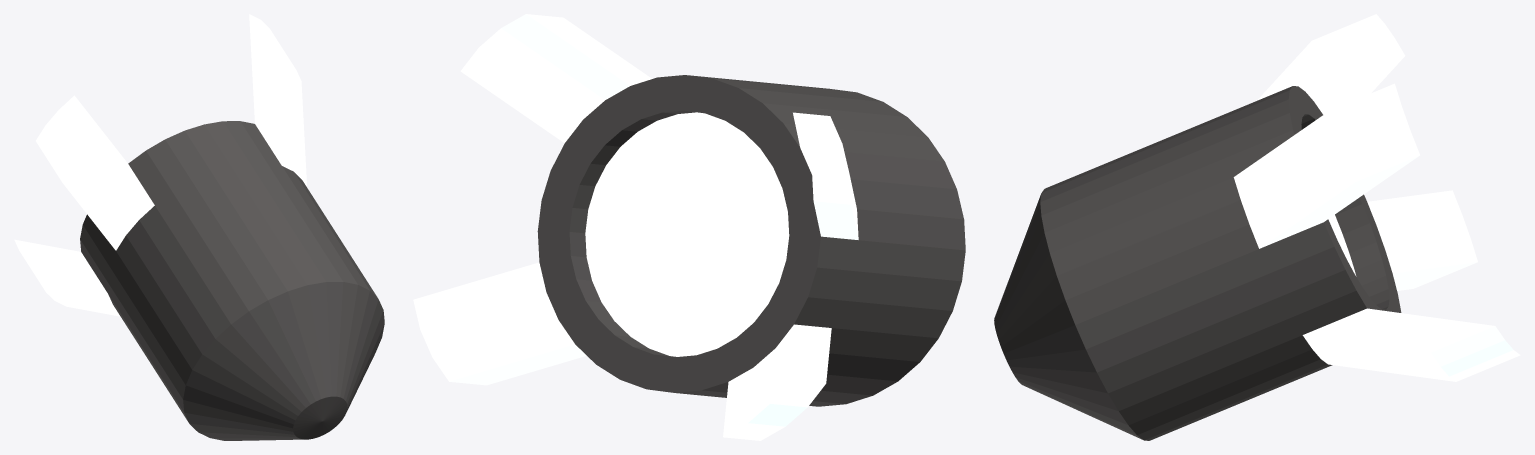
File: ArmaTocha 1.fbx
3 renders of one model, left to right at view 1: azimuth 30°, elevation 25°; view 2: azimuth 150°, elevation 25°; view 3: azimuth 270°, elevation 25°, orthographic. The views are drawn at different scales.
Parts seen in each view (by area): view 1: Arma tocha; view 2: Arma tocha; view 3: Arma tocha.
Part boxes in pixels (x1,y1,x2,y2): Arma tocha: [14, 14, 384, 440]; Arma tocha: [413, 14, 965, 440]; Arma tocha: [994, 14, 1520, 440].
Size of the model in its own units: 33.45 by 42.1 by 50.72.
